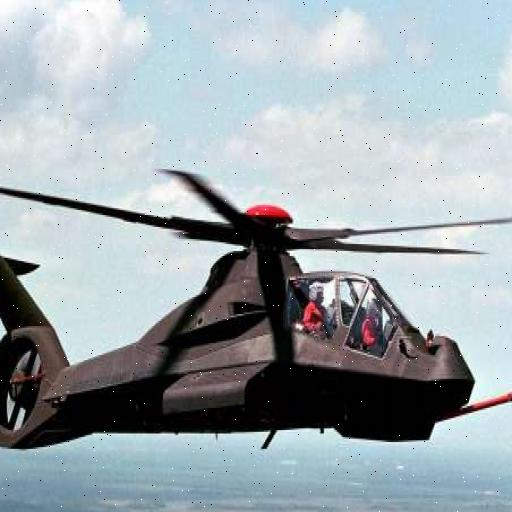helicopter: (1, 155, 512, 459)
